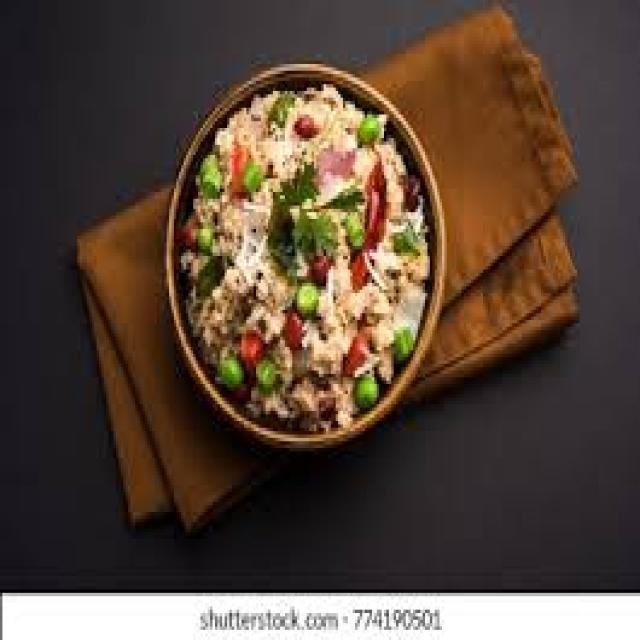UPMA: (182, 88, 427, 419)
